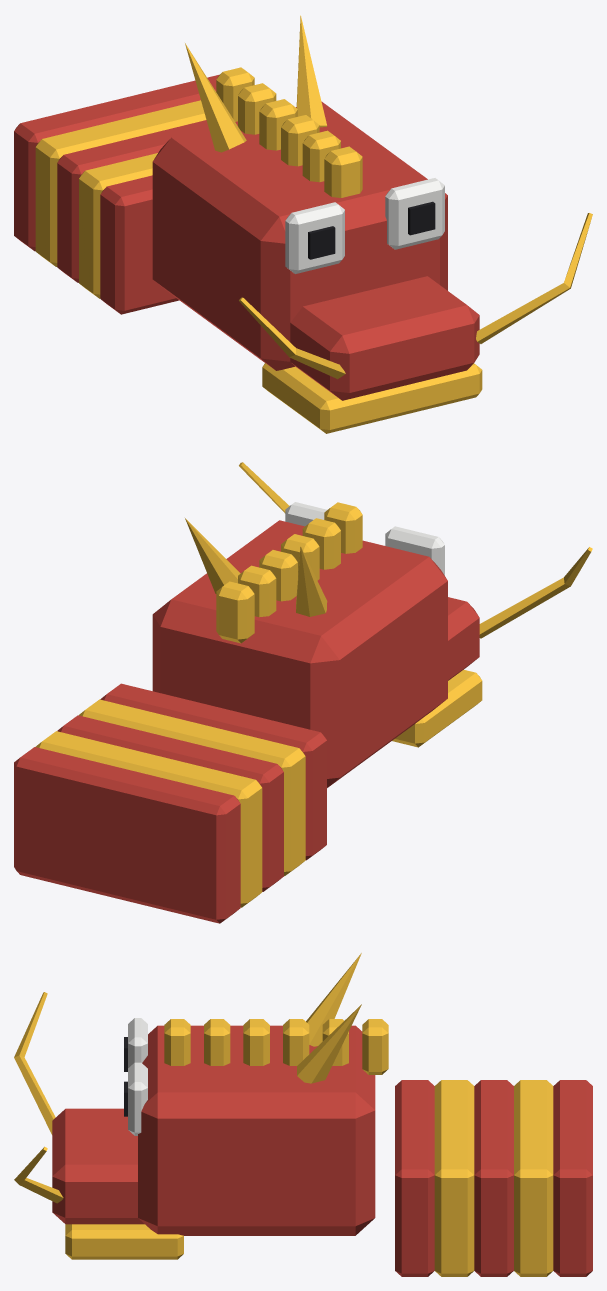
Rendered from DragonDanceHead.fbx.
3 views of the same model, one above another, from view 1: azimuth 30°, elevation 25°; view 2: azimuth 150°, elevation 25°; view 3: azimuth 270°, elevation 25° (orthographic). The views are drawn at different scales.
Visible parts, largest first — view 1: DragonDanceHead; view 2: DragonDanceHead; view 3: DragonDanceHead.
Boxes of the visible parts, bbox=[...] form: DragonDanceHead: bbox=[14, 15, 592, 433]; DragonDanceHead: bbox=[14, 462, 592, 923]; DragonDanceHead: bbox=[14, 953, 592, 1276].
Bounding box in the file's own units: 5.65 × 4.26 × 8.78.
Materials: 1 (1 with a texture image).
